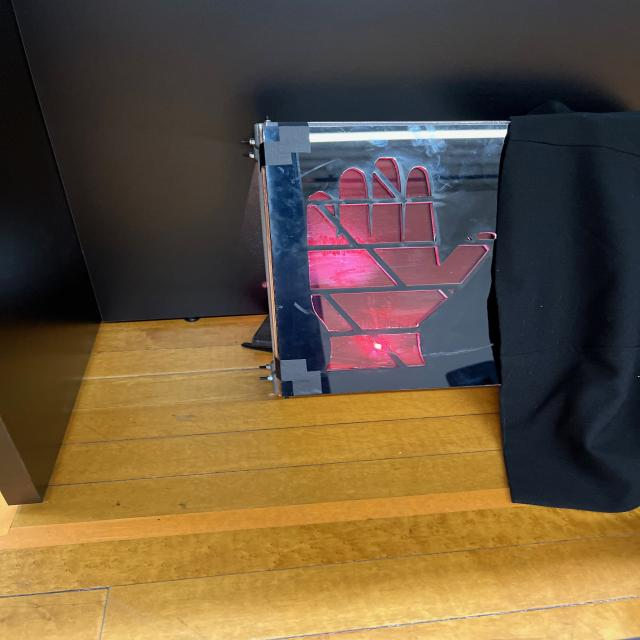stop: (280, 140, 504, 386)
